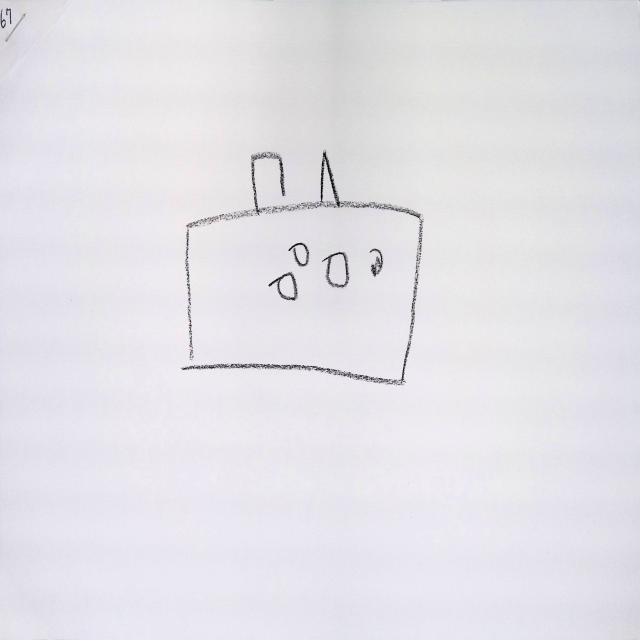chimney: (251, 154, 343, 209)
house: (184, 151, 424, 385)
wall: (185, 204, 423, 386)
window: (324, 252, 350, 288), (269, 273, 298, 300), (289, 242, 310, 267), (370, 249, 384, 277)
